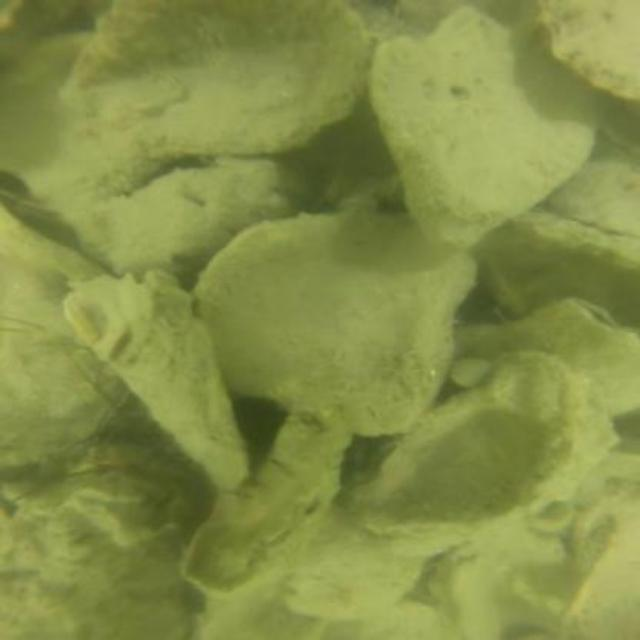Oyster-Closed: (192, 213, 487, 434), (372, 12, 606, 252), (355, 349, 626, 548), (57, 0, 366, 153), (64, 272, 256, 495), (176, 410, 352, 599), (0, 260, 133, 462), (445, 298, 638, 418), (478, 211, 638, 346), (536, 3, 638, 100)
